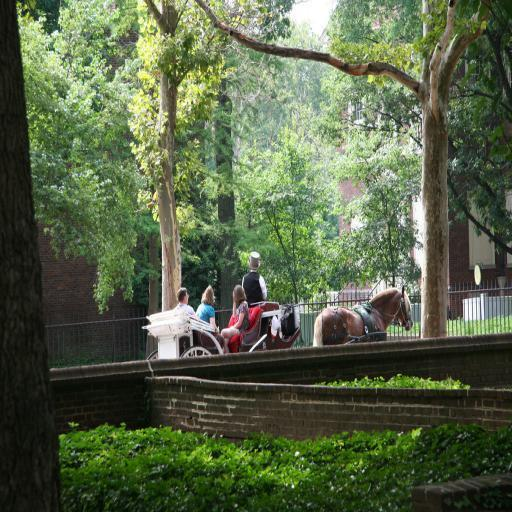horse: (307, 284, 412, 350)
